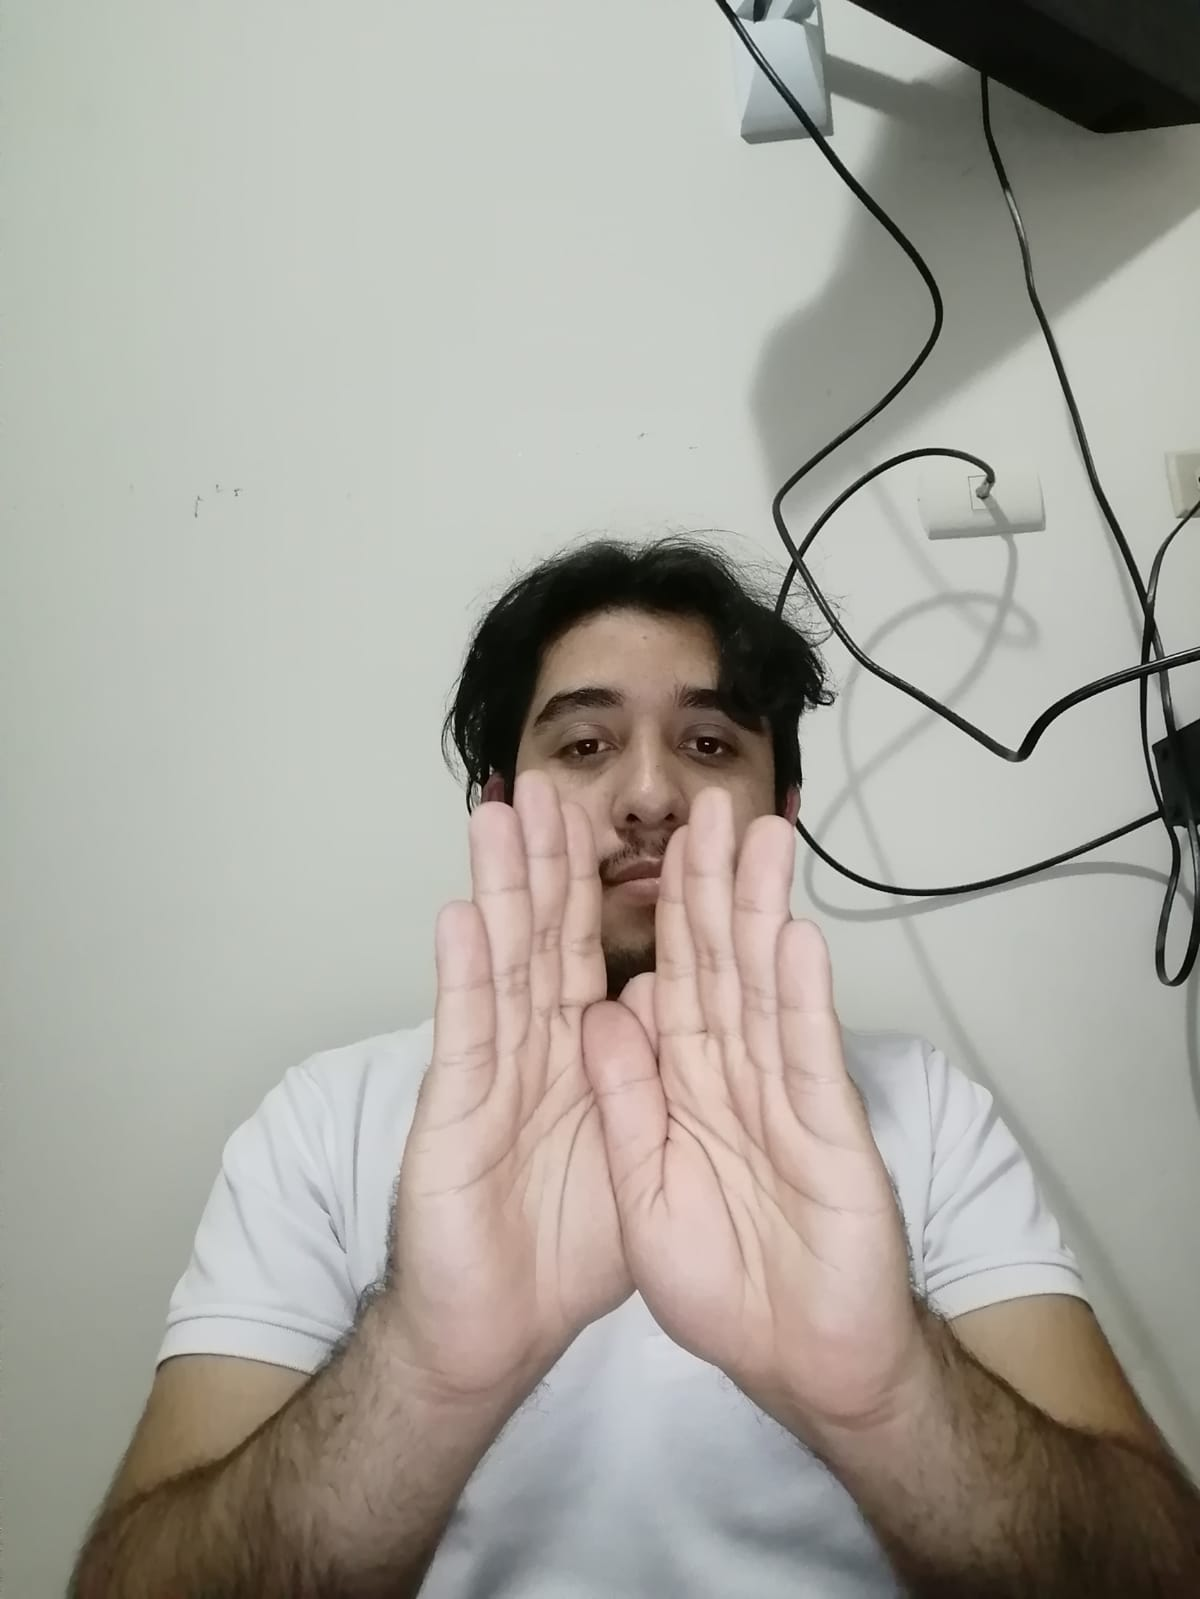Door: (384, 759, 910, 1440)
